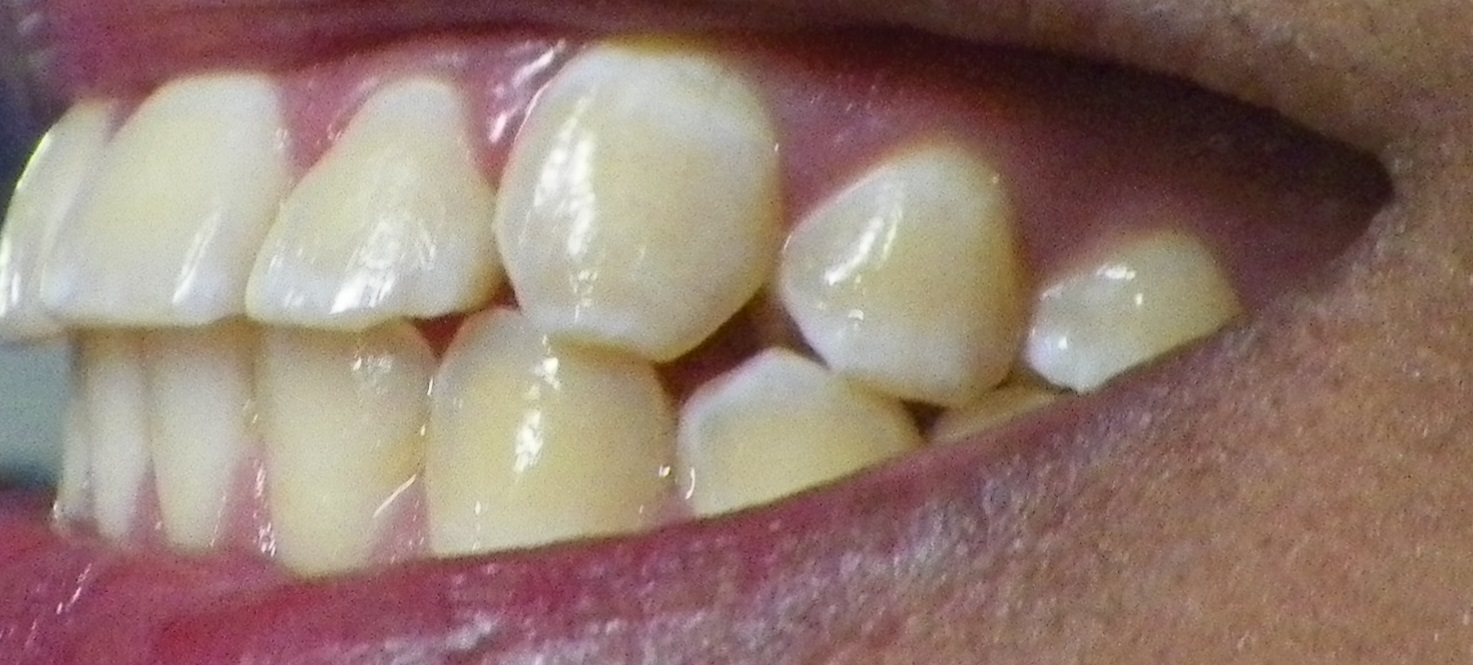boca: (4, 45, 1240, 562)
